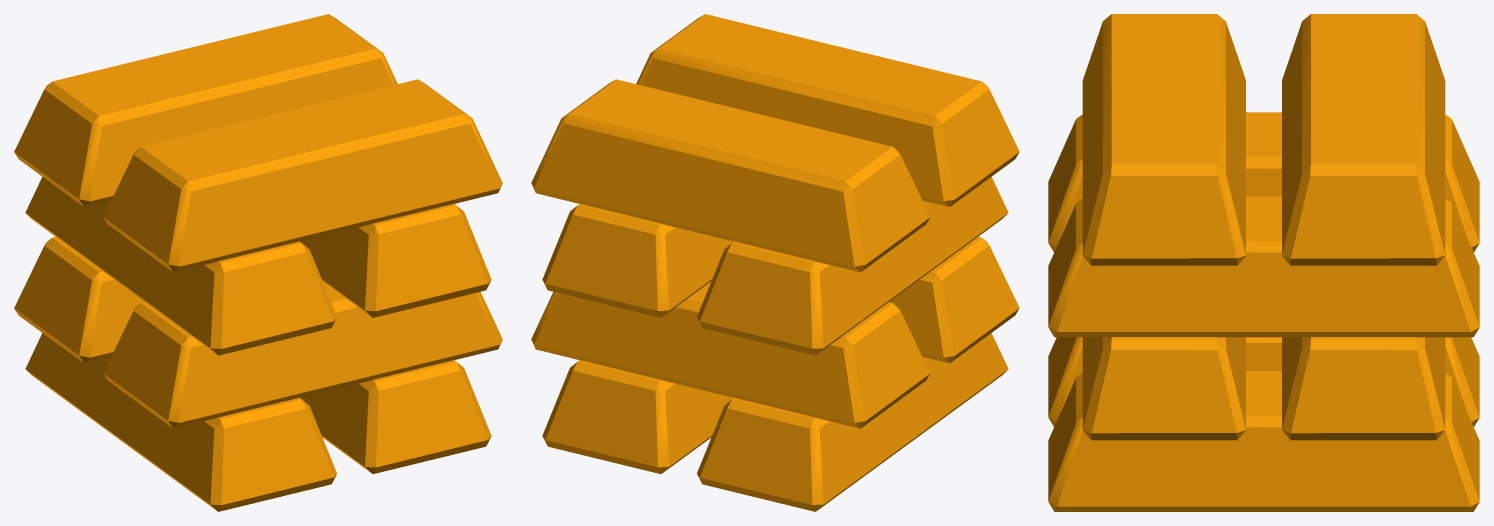
Rendered from SM_Gold_Bar_4_stack.fbx.
The picture shows the model from 3 angles, left to right: view 1: azimuth 30°, elevation 25°; view 2: azimuth 150°, elevation 25°; view 3: azimuth 270°, elevation 25°; orthographic projection. The views are drawn at different scales.
Visible parts, largest first — view 1: Gold_Bar05, Gold_Bar06, Gold_Bar01, Gold_Bar08, Gold_Bar04, Gold_Bar07, Gold_Bar03, Gold_Bar02; view 2: Gold_Bar06, Gold_Bar05, Gold_Bar02, Gold_Bar08, Gold_Bar04, Gold_Bar07, Gold_Bar03, Gold_Bar01; view 3: Gold_Bar05, Gold_Bar06, Gold_Bar03, Gold_Bar07, Gold_Bar01, Gold_Bar02, Gold_Bar04, Gold_Bar08.
Boxes of the visible parts, <box> form: Gold_Bar05: <box>103,79,502,272</box>; Gold_Bar06: <box>14,14,397,206</box>; Gold_Bar01: <box>103,281,502,428</box>; Gold_Bar08: <box>25,333,336,511</box>; Gold_Bar04: <box>25,177,336,355</box>; Gold_Bar07: <box>300,360,491,473</box>; Gold_Bar03: <box>300,204,491,317</box>; Gold_Bar02: <box>14,237,144,363</box>; Gold_Bar06: <box>531,79,930,272</box>; Gold_Bar05: <box>636,14,1019,206</box>; Gold_Bar02: <box>531,281,930,428</box>; Gold_Bar08: <box>697,333,1008,511</box>; Gold_Bar04: <box>697,177,1008,355</box>; Gold_Bar07: <box>542,360,733,473</box>; Gold_Bar03: <box>542,204,733,317</box>; Gold_Bar01: <box>889,237,1019,363</box>; Gold_Bar05: <box>1082,14,1245,265</box>; Gold_Bar06: <box>1282,14,1445,265</box>; Gold_Bar03: <box>1048,196,1479,337</box>; Gold_Bar07: <box>1048,371,1479,511</box>; Gold_Bar01: <box>1082,337,1245,440</box>; Gold_Bar02: <box>1282,337,1445,440</box>; Gold_Bar04: <box>1048,112,1479,252</box>; Gold_Bar08: <box>1048,337,1479,426</box>.
Size of the model in its own units: 0.1983 by 0.1773 by 0.1983.
Materials: 1 (1 with a texture image).
